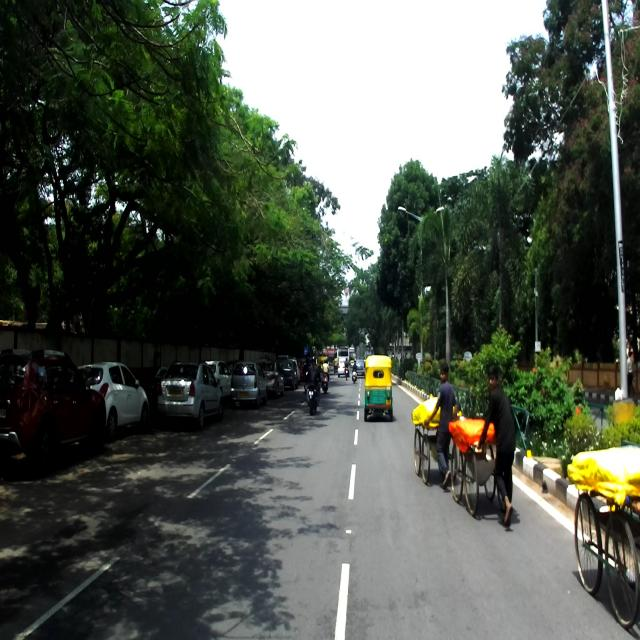autorickshaw: (362, 350, 394, 420)
car: (0, 347, 107, 479), (75, 358, 150, 438), (157, 358, 224, 429), (230, 359, 270, 409)
motorcycle: (306, 370, 320, 417)
